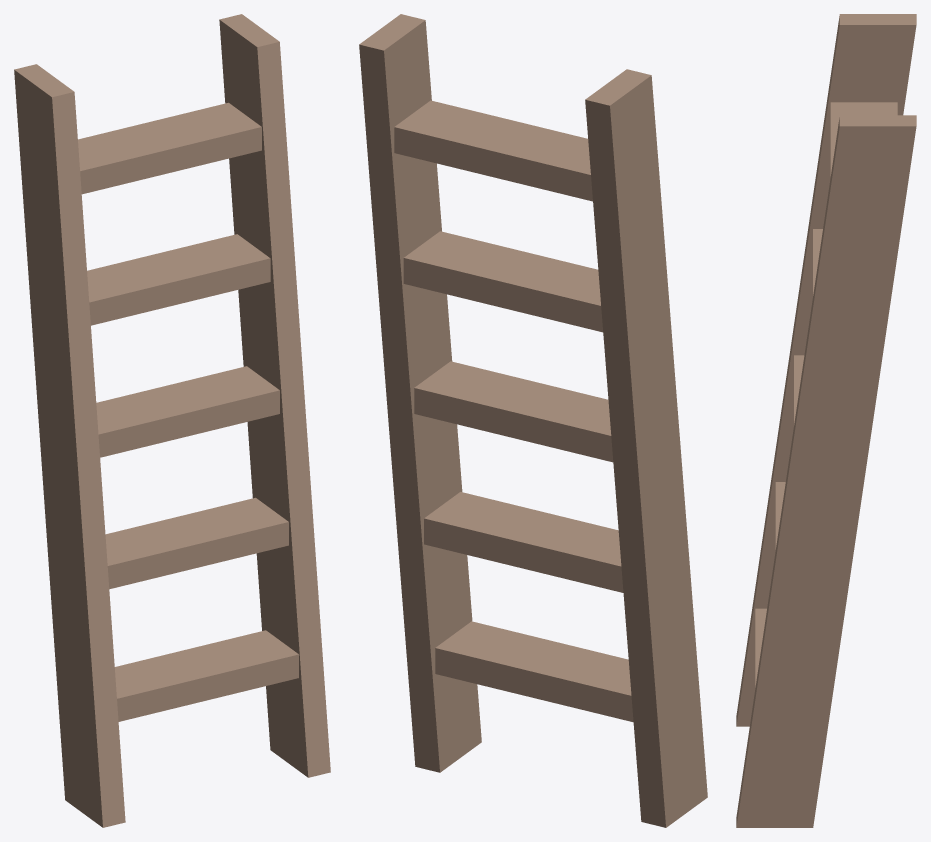
File: Ladder.fbx
The picture shows the model from 3 angles, left to right: view 1: azimuth 30°, elevation 25°; view 2: azimuth 150°, elevation 25°; view 3: azimuth 270°, elevation 25°; orthographic projection. The views are drawn at different scales.
Parts seen in each view (by area): view 1: Ladder; view 2: Ladder; view 3: Ladder.
Part boxes in pixels (left/top/right/bottom): Ladder: left=14, top=14, right=330, bottom=827; Ladder: left=359, top=14, right=707, bottom=827; Ladder: left=736, top=14, right=916, bottom=827.
Bounding box in the file's own units: 67.54 × 45.69 × 196.
